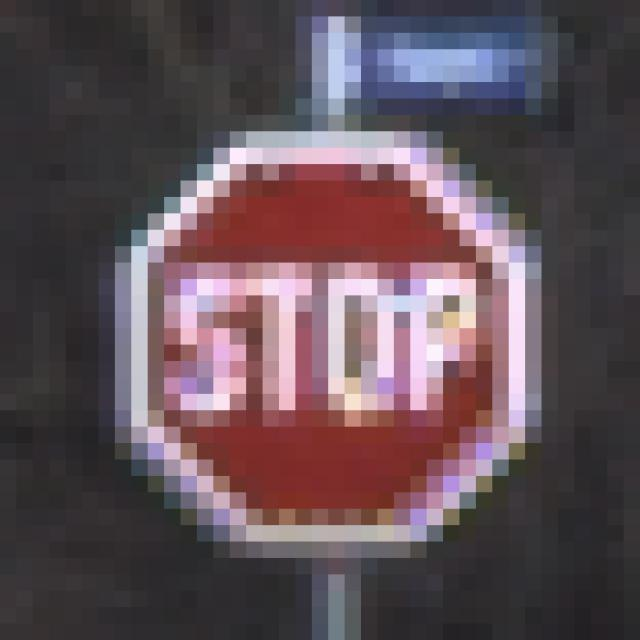STOP: (99, 83, 559, 559)
